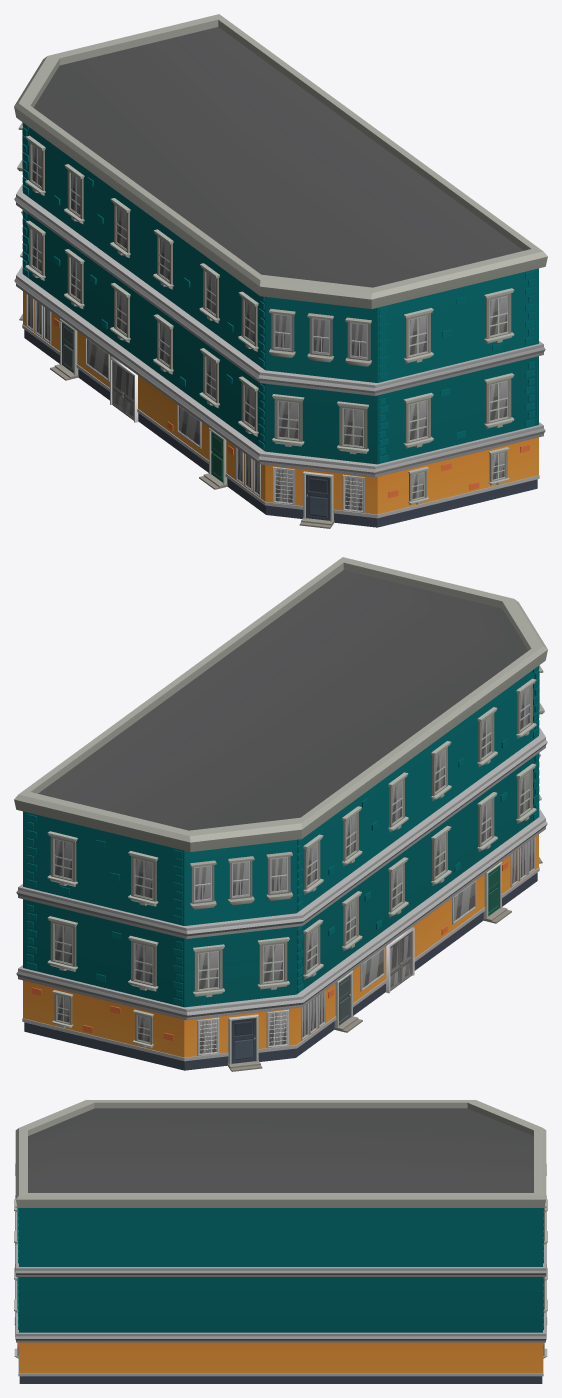
File: Building_25_7_G.fbx
3 views of the same model, one above another, from view 1: azimuth 30°, elevation 25°; view 2: azimuth 150°, elevation 25°; view 3: azimuth 270°, elevation 25° (orthographic). The views are drawn at different scales.
Visible parts, largest first — view 1: Building_25_7_G; view 2: Building_25_7_G; view 3: Building_25_7_G.
Part boxes in pixels (x1,y1,x2,y2): Building_25_7_G: (14, 14, 547, 528); Building_25_7_G: (14, 557, 547, 1071); Building_25_7_G: (14, 1100, 547, 1383).
Size of the model in its own units: 1291 by 1159 by 2941.
